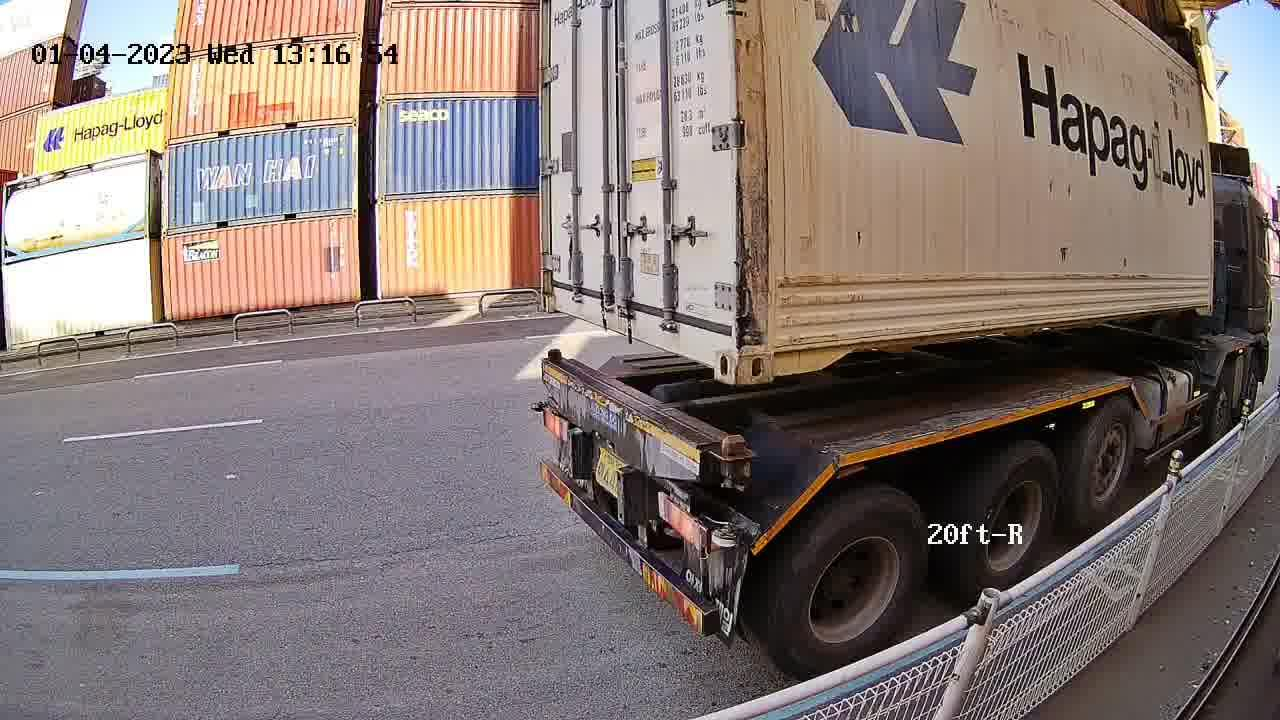Chassis: (541, 357, 733, 481)
Cone: (714, 434, 749, 493), (544, 348, 566, 365)
Hole_L: (737, 302, 807, 383), (538, 264, 576, 318)
Hole_R: (683, 293, 738, 385)
Tire: (766, 490, 929, 680), (962, 444, 1060, 597), (1075, 400, 1139, 528)
